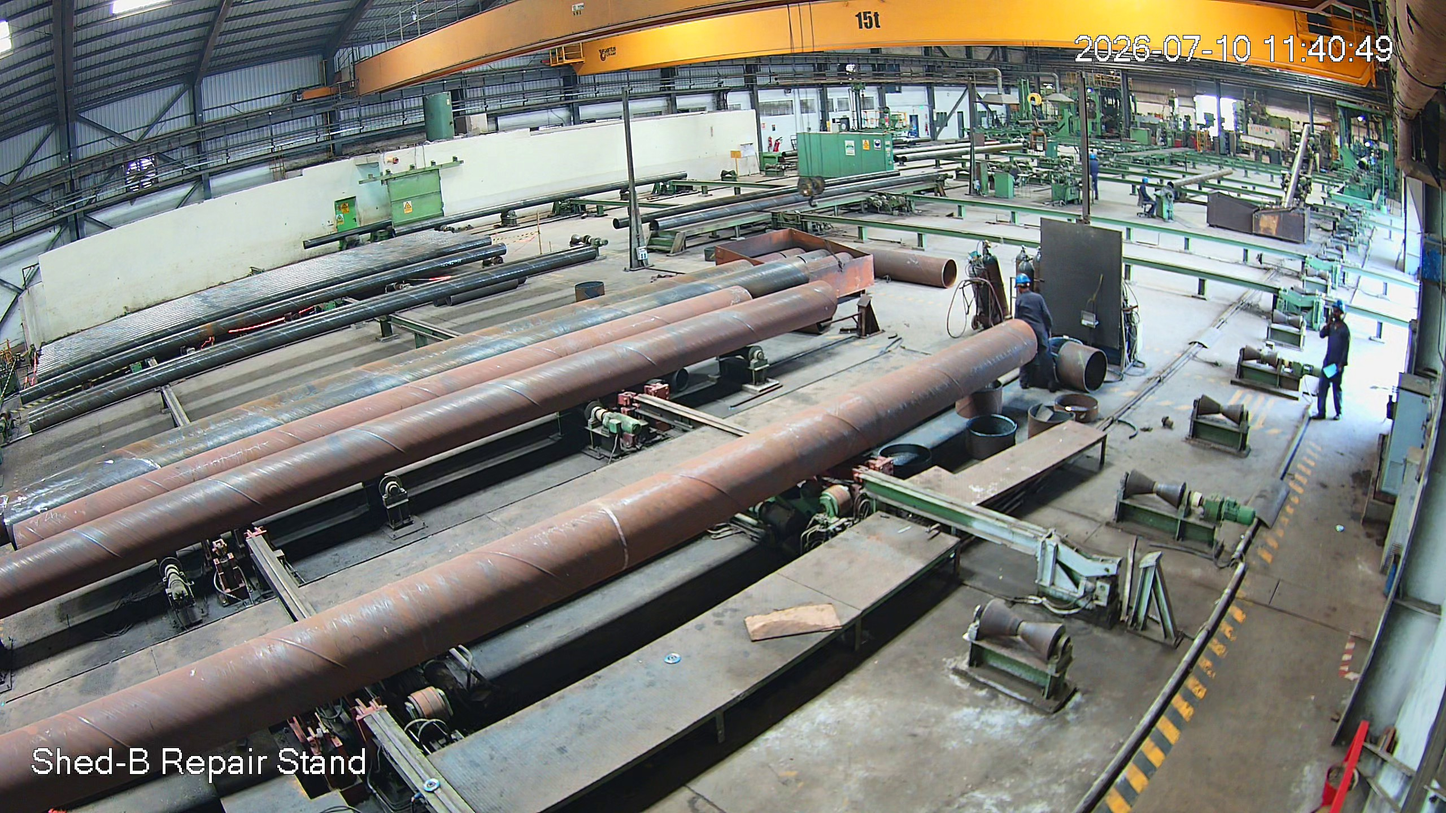Helmet: (1323, 285, 1350, 337), (1008, 269, 1044, 302), (1137, 169, 1156, 200), (1086, 146, 1100, 170)
Person: (1006, 274, 1066, 385), (1315, 290, 1358, 435), (1132, 175, 1161, 224), (1086, 152, 1105, 207)
